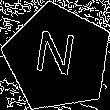N_S: (34, 30, 82, 86)
